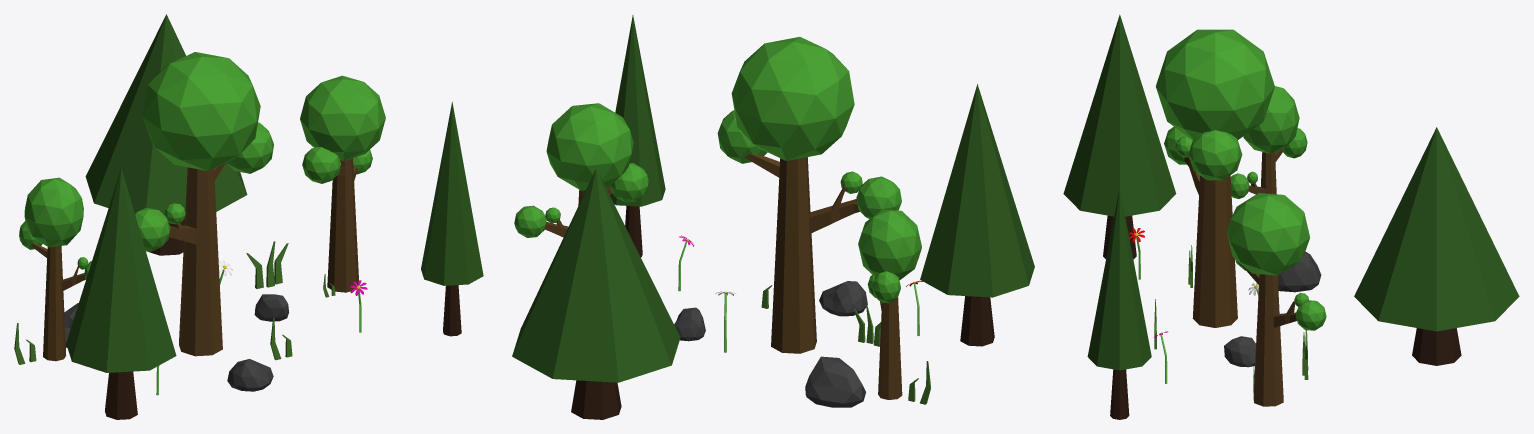
File: treerocks.dae
3 renders of one model, left to right at view 1: azimuth 30°, elevation 25°; view 2: azimuth 150°, elevation 25°; view 3: azimuth 270°, elevation 25°, orthographic. The views are drawn at different scales.
Parts seen in each view (by area): view 1: Cylinder, Cylinder_006, Cylinder_001, Cylinder_007, Cylinder_008, Cylinder_002, Icosphere, Cube_003, Icosphere_002; view 2: Cylinder, Cylinder_007, Cylinder_006, Cylinder_001, Cylinder_002, Cylinder_008, Icosphere_001, Icosphere, Icosphere_002, Cube; view 3: Cylinder_007, Cylinder, Cylinder_006, Cylinder_001, Cylinder_008, Cylinder_002, Icosphere_001, Icosphere_002.
Boxes of the visible parts, x1=… form: Cylinder: x1=135, y1=52, x2=273, y2=356; Cylinder_006: x1=66, y1=168, x2=176, y2=419; Cylinder_001: x1=300, y1=75, x2=385, y2=292; Cylinder_007: x1=85, y1=14, x2=247, y2=255; Cylinder_008: x1=421, y1=102, x2=483, y2=336; Cylinder_002: x1=19, y1=177, x2=91, y2=361; Icosphere: x1=227, y1=359, x2=273, y2=391; Cube_003: x1=246, y1=241, x2=288, y2=288; Icosphere_002: x1=254, y1=294, x2=288, y2=321; Cylinder: x1=717, y1=37, x2=901, y2=353; Cylinder_007: x1=512, y1=168, x2=680, y2=419; Cylinder_006: x1=920, y1=84, x2=1034, y2=346; Cylinder_001: x1=514, y1=103, x2=648, y2=237; Cylinder_002: x1=858, y1=209, x2=921, y2=399; Cylinder_008: x1=610, y1=15, x2=665, y2=257; Icosphere_001: x1=805, y1=356, x2=865, y2=407; Icosphere: x1=819, y1=281, x2=867, y2=316; Icosphere_002: x1=674, y1=307, x2=705, y2=341; Cube: x1=853, y1=305, x2=880, y2=346; Cylinder_007: x1=1354, y1=127, x2=1519, y2=365; Cylinder: x1=1155, y1=29, x2=1274, y2=327; Cylinder_006: x1=1063, y1=14, x2=1176, y2=259; Cylinder_001: x1=1226, y1=193, x2=1326, y2=406; Cylinder_008: x1=1087, y1=188, x2=1151, y2=419; Cylinder_002: x1=1230, y1=86, x2=1307, y2=198; Icosphere_001: x1=1278, y1=251, x2=1321, y2=292; Icosphere_002: x1=1224, y1=336, x2=1255, y2=367.
Bounding box in the file's own units: 20.64 × 20.2 × 14.13.
